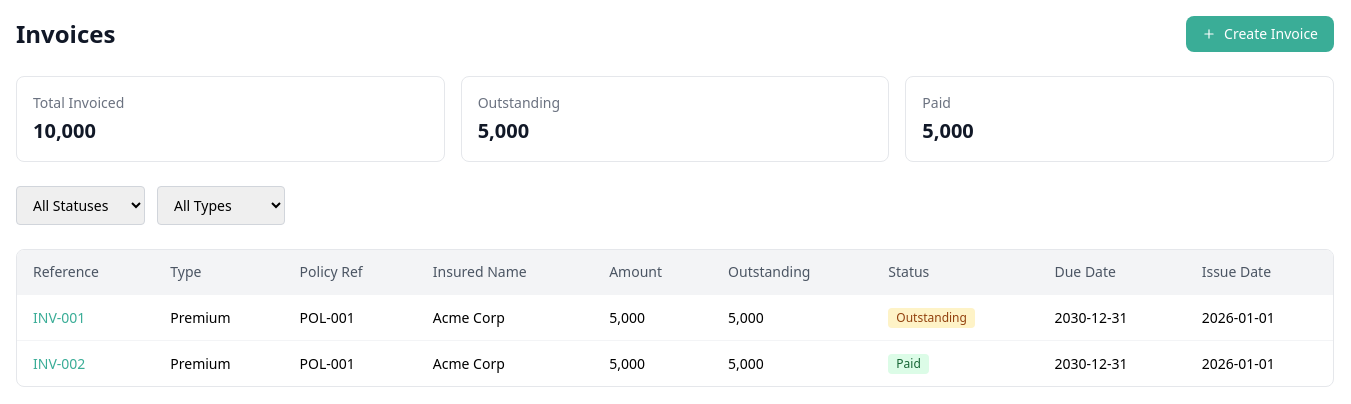
Test case: InvoicesPage — /finance/invoices › T-FIN-FE-F-R025 — Status filter dropdown filters rows client-side
Expected: the link "INV-001" is shown, [33, 308, 85, 326]
Select "Paid" in the 1st dropdown at (80, 206), box [16, 186, 145, 225]
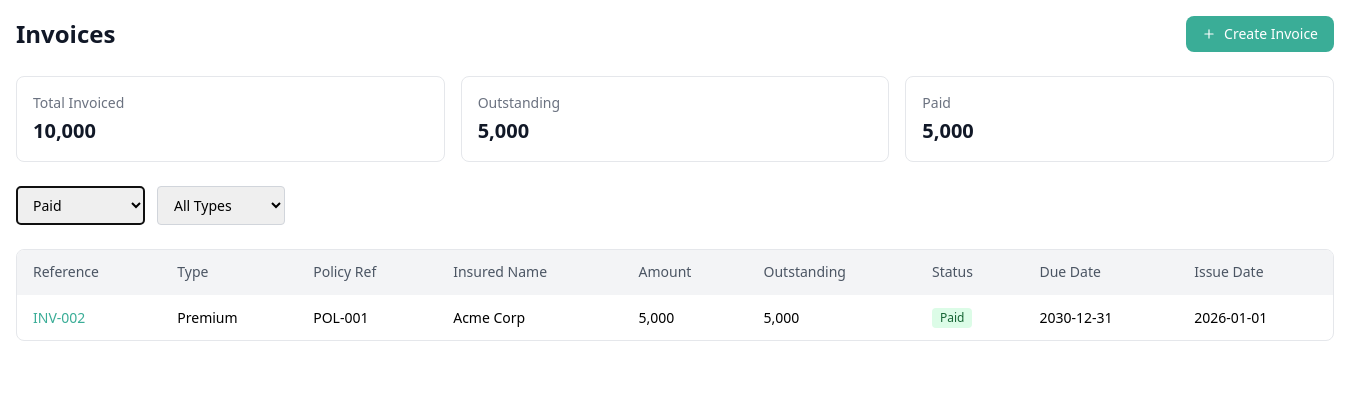
Expected: the link "INV-002" is shown, [33, 308, 85, 326]
Now the link "INV-001" is gone
